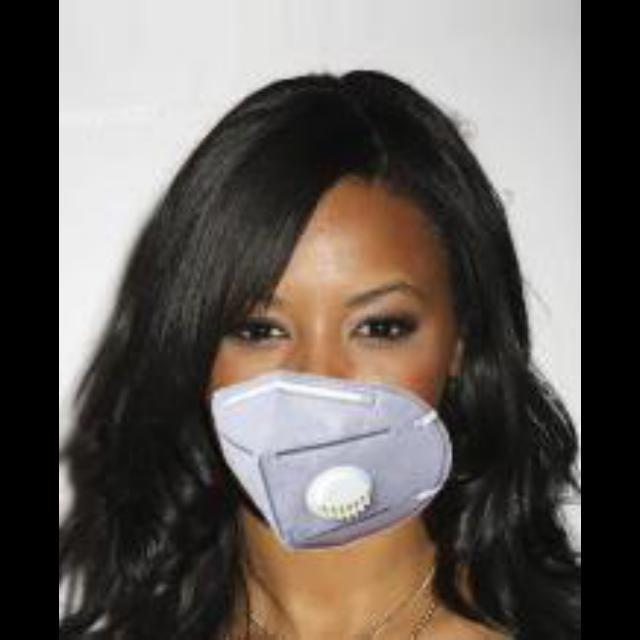suspicion: (196, 153, 477, 525)
